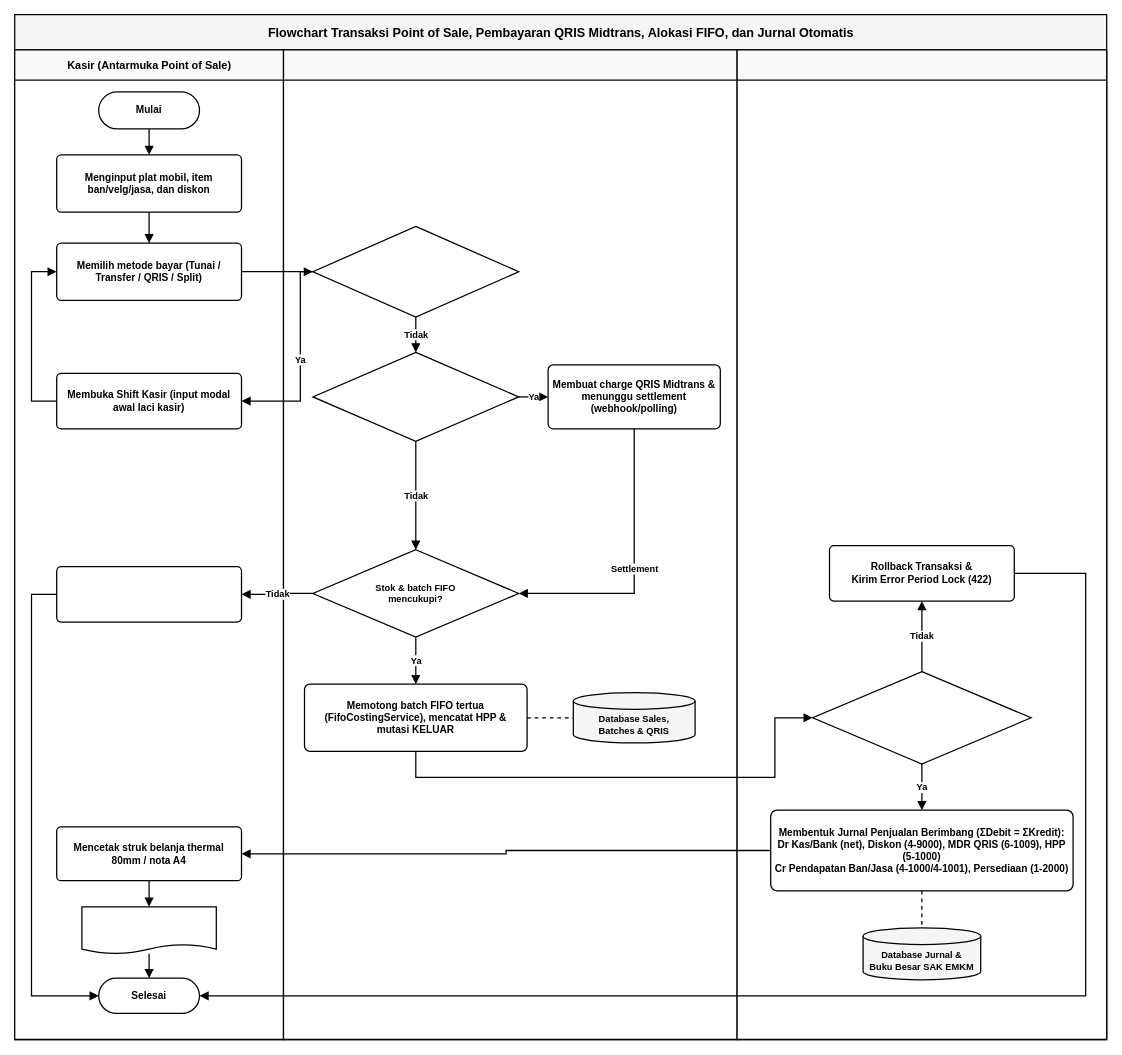
This 1122x1055 diagram has some shape labels left out. The shapes that lost their labels are listed below. From the top down, each one's box as (x1, y1, x2, y2) in pixels, then its label:
(312, 225, 519, 317): Bayar Tunai & shift belum dibuka?
(312, 351, 519, 442): Pakai QRIS Dinamis Midtrans?
(282, 49, 737, 1040): Sistem Point of Sale & Midtrans QRIS
(736, 49, 1107, 1040): Sistem Informasi Akuntansi (AccountingEngine)
(56, 566, 242, 622): Menampilkan pesan error validasi (422) ke kasir
(812, 671, 1031, 764): Tanggal melewati Period Lock (terbuka)?
(81, 906, 217, 954): Struk Belanja (OB3-INV-...)
